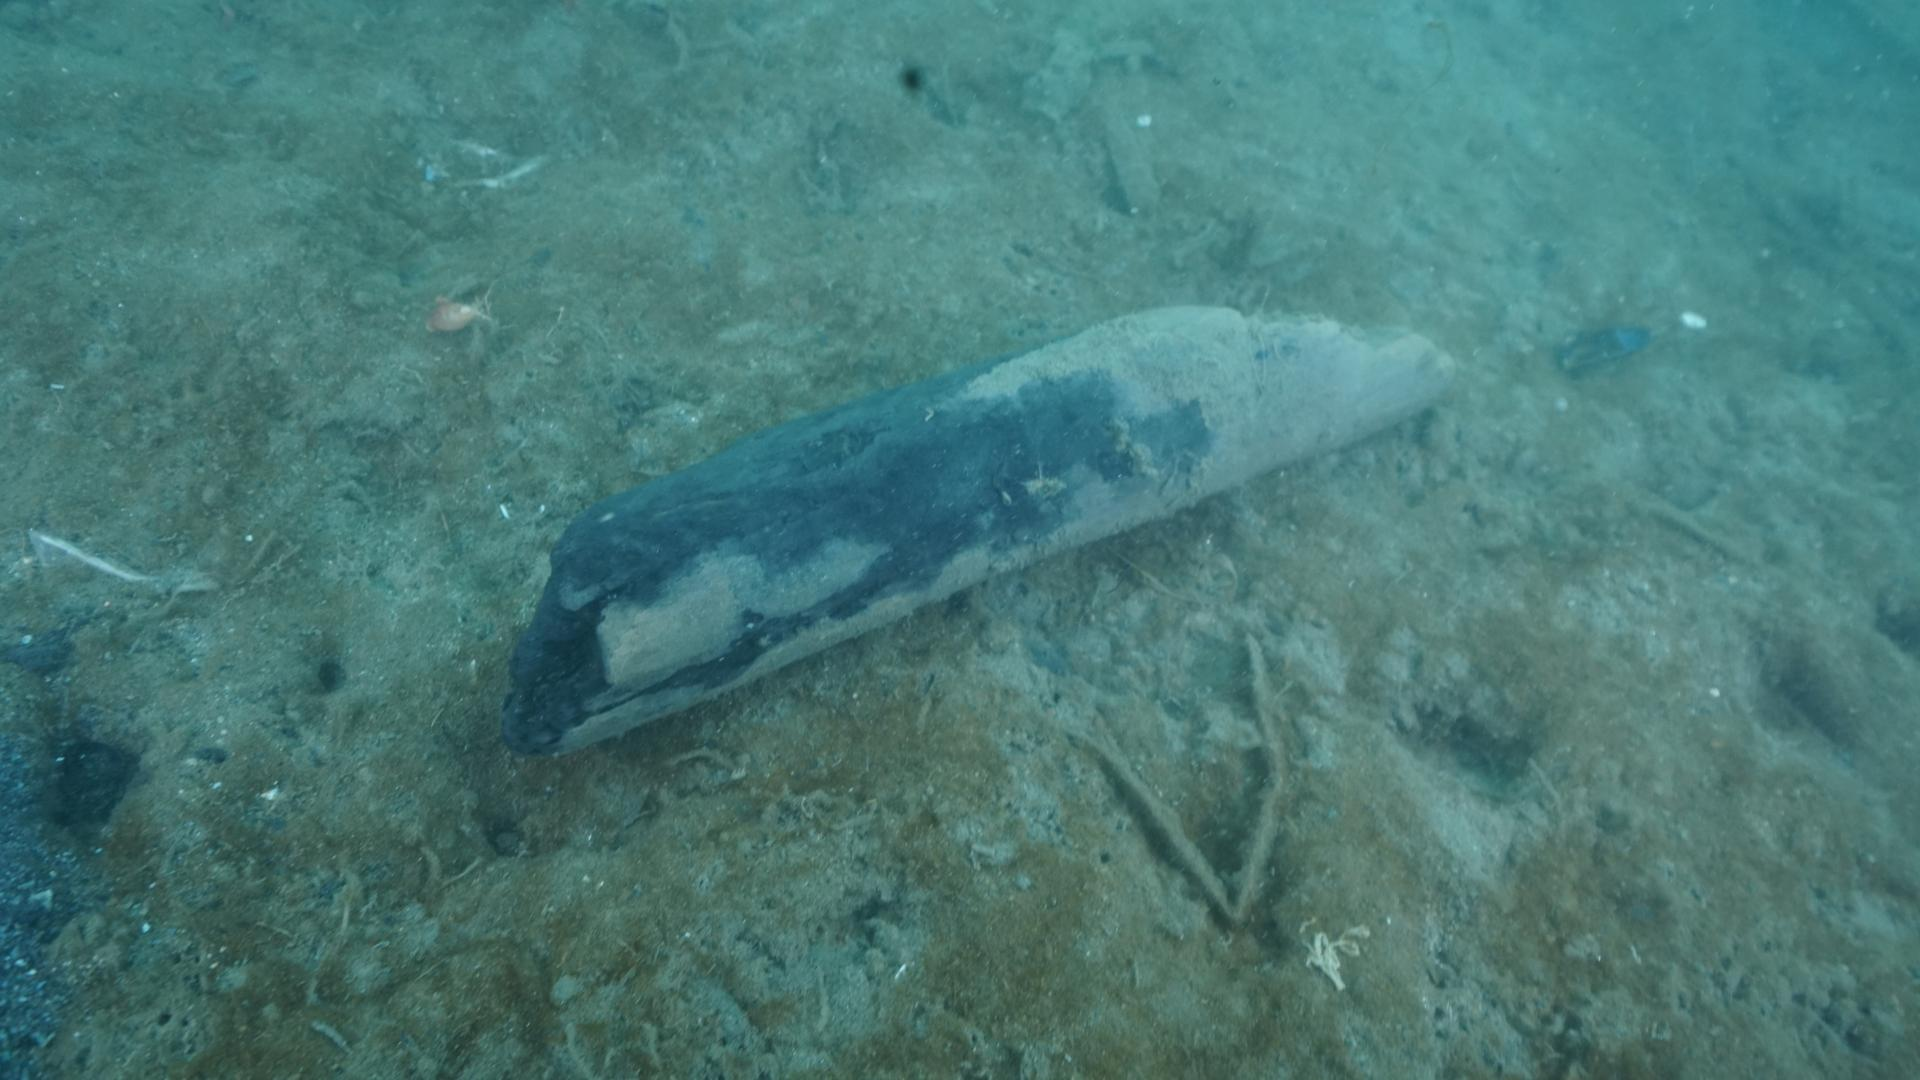wood: (508, 302, 1460, 762)
